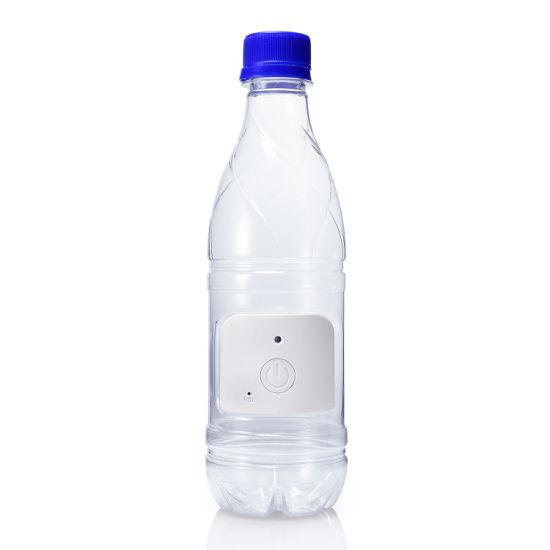bottle: (200, 0, 352, 294)
